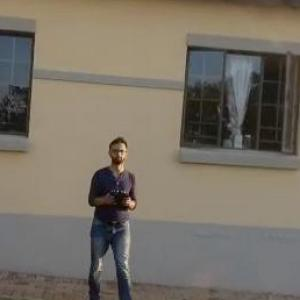follow: (80, 125, 147, 299)
